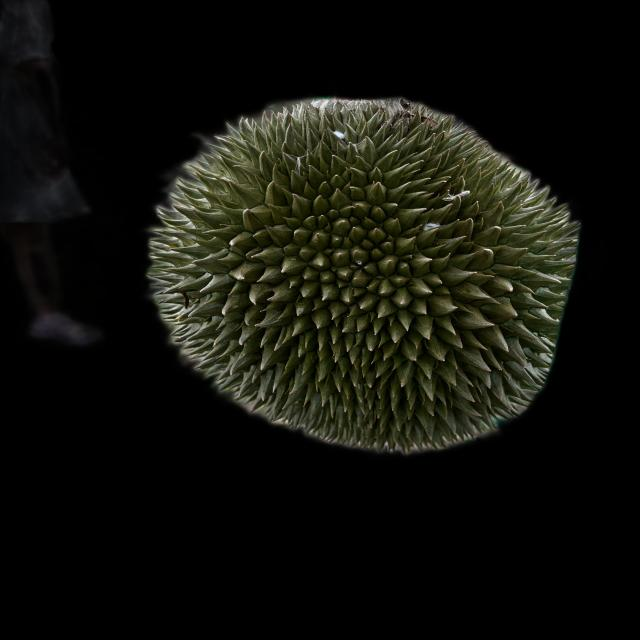immature: (153, 97, 584, 458)
